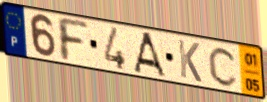4: (103, 25, 128, 72)
6: (28, 12, 58, 59)
A: (132, 30, 168, 80)
C: (207, 45, 240, 89)
F: (55, 14, 91, 64)
K: (177, 37, 204, 85)
